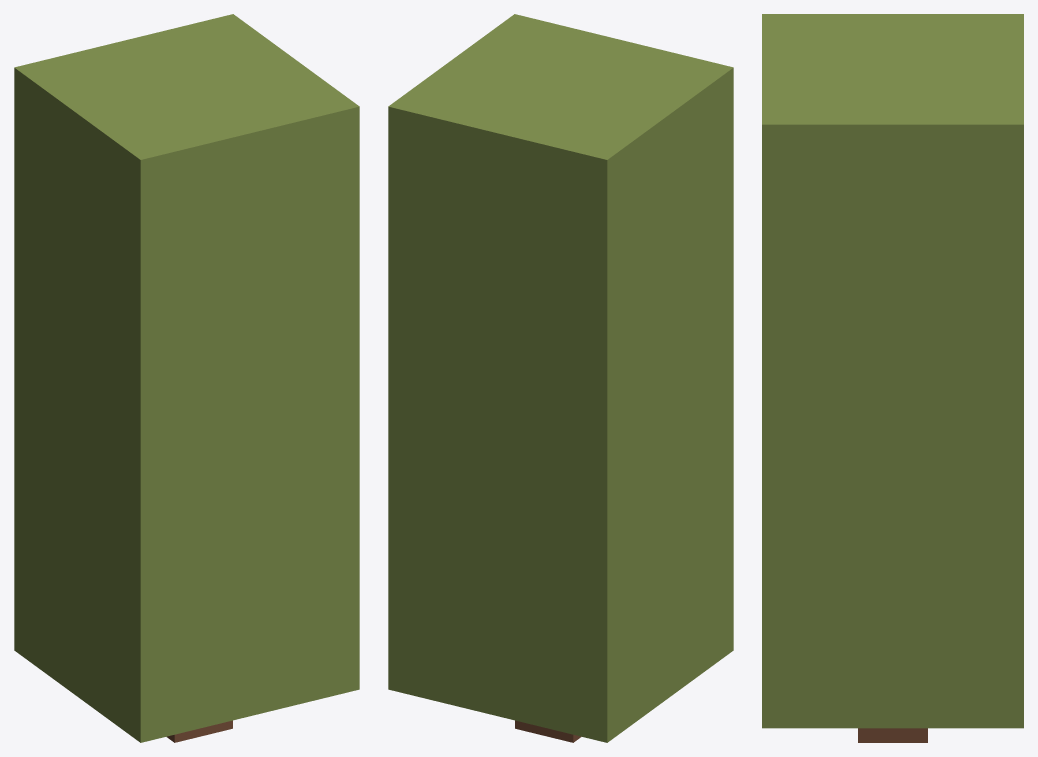
File: Tree2.fbx
3 views of the same model, side by side, from view 1: azimuth 30°, elevation 25°; view 2: azimuth 150°, elevation 25°; view 3: azimuth 270°, elevation 25° (orthographic). The views are drawn at different scales.
Visible parts, largest first — view 1: Tree2; view 2: Tree2; view 3: Tree2.
Part boxes in pixels (bbox=[...]): Tree2: bbox=[14, 14, 359, 742]; Tree2: bbox=[388, 14, 733, 742]; Tree2: bbox=[762, 14, 1023, 742].
Size of the model in its own units: 2.25 by 6.25 by 2.25.
